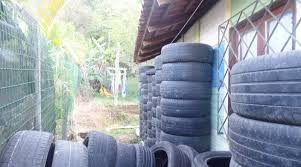tire: (230, 50, 301, 121), (226, 112, 300, 167), (1, 128, 55, 167), (80, 130, 115, 167), (158, 114, 213, 137), (145, 139, 190, 167), (194, 149, 257, 167), (158, 97, 213, 117), (158, 80, 215, 99), (159, 61, 213, 81), (51, 138, 87, 167), (160, 43, 214, 62), (128, 143, 157, 167), (114, 143, 137, 167)
